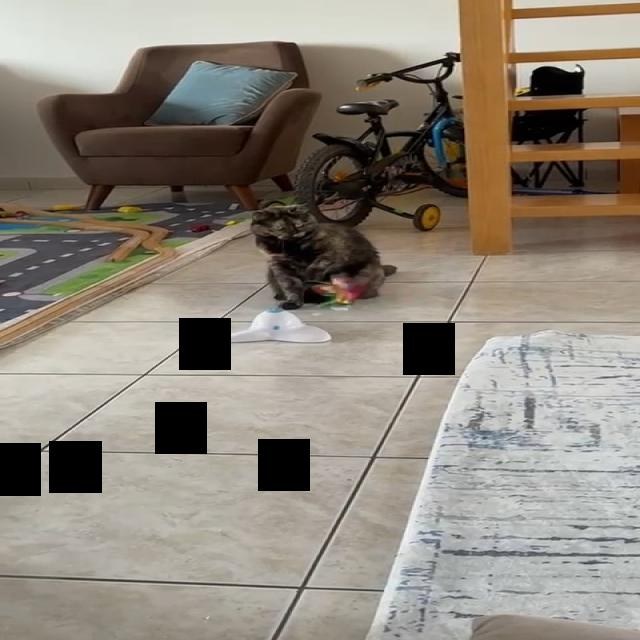authorized: (248, 198, 397, 310)
